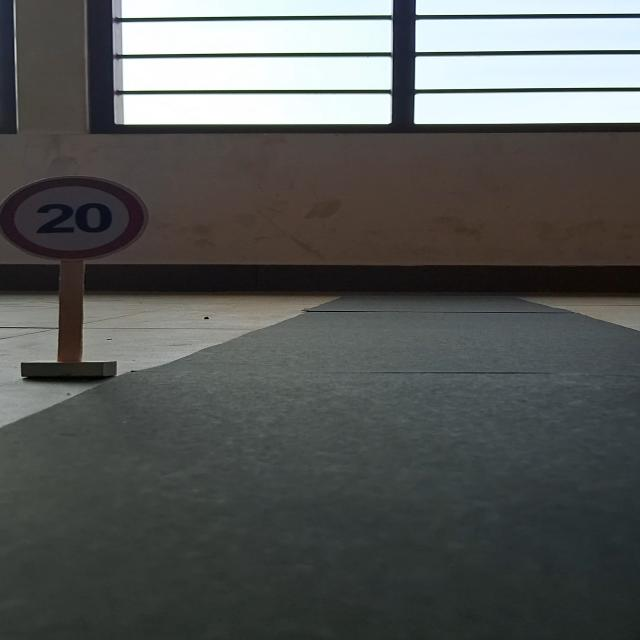Speed20: (0, 159, 157, 269)
